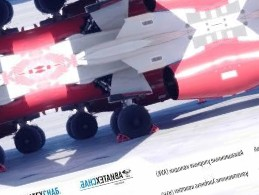chock: (113, 130, 130, 143), (145, 122, 161, 135), (0, 161, 8, 174)
wheel: (114, 101, 155, 142), (9, 122, 48, 158), (63, 108, 102, 144), (30, 0, 70, 16), (0, 0, 16, 30)
